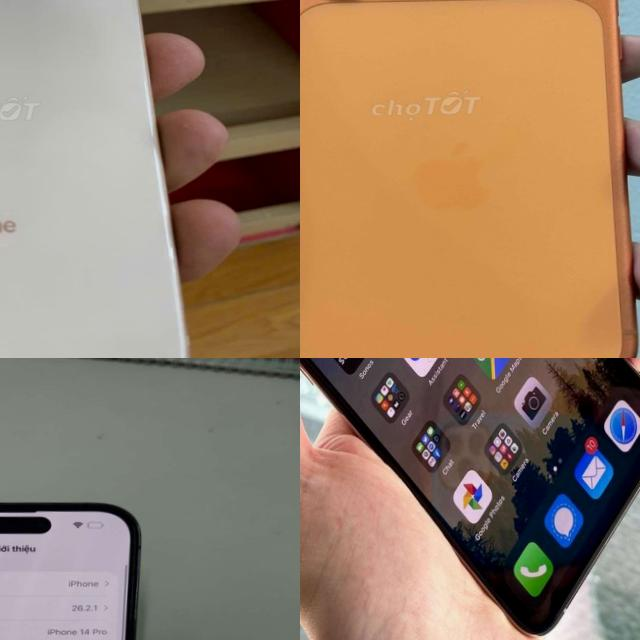gen_11: (300, 358, 640, 633)
gen_14: (0, 498, 144, 640)
gen_17: (300, 0, 640, 358)
gen_7_8: (0, 0, 213, 358)
